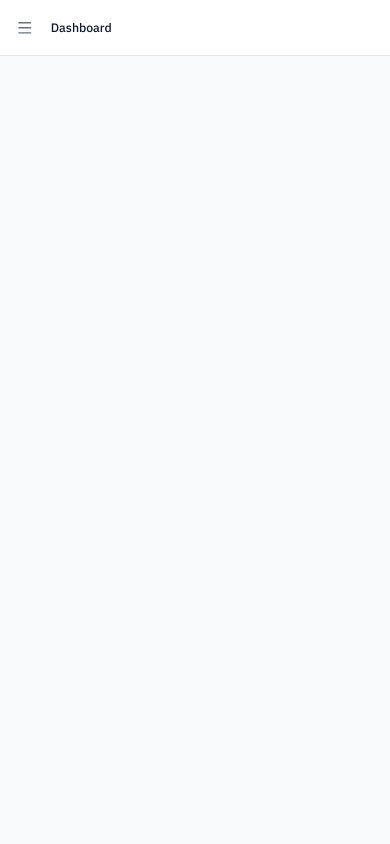
it: DashboardShell › deve fechar o menu deslizante ao navegar
Click the button named "Abrir menu" at point(25, 28), box [9,12,40,43]
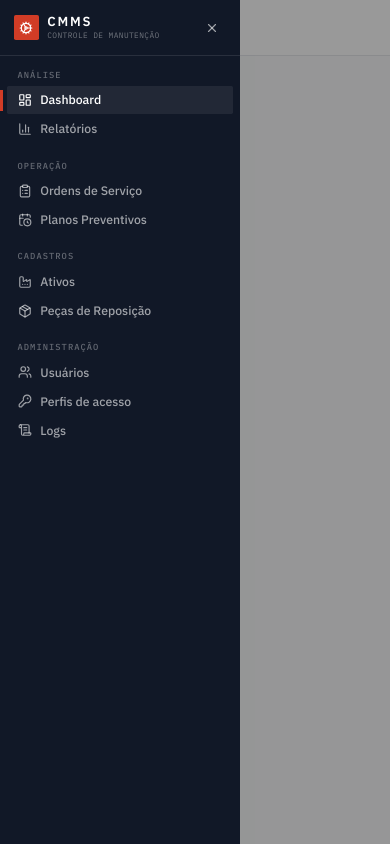
Click the link "Ativos" at point(46, 281), box [18,273,75,289]
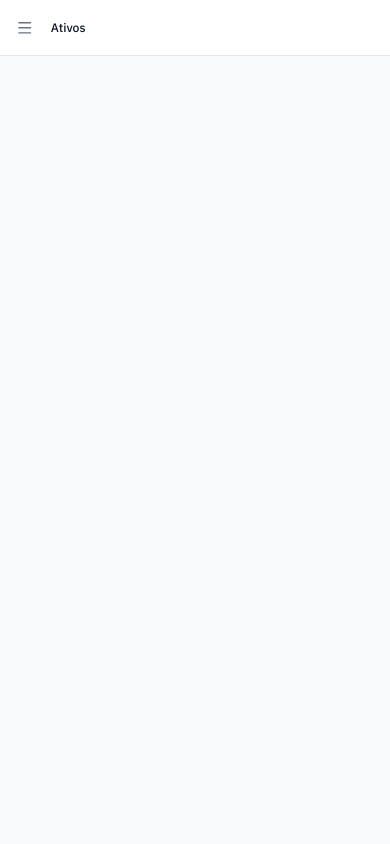
expect the button named "Abrir menu" is collapsed: met, box [9,12,40,43]
